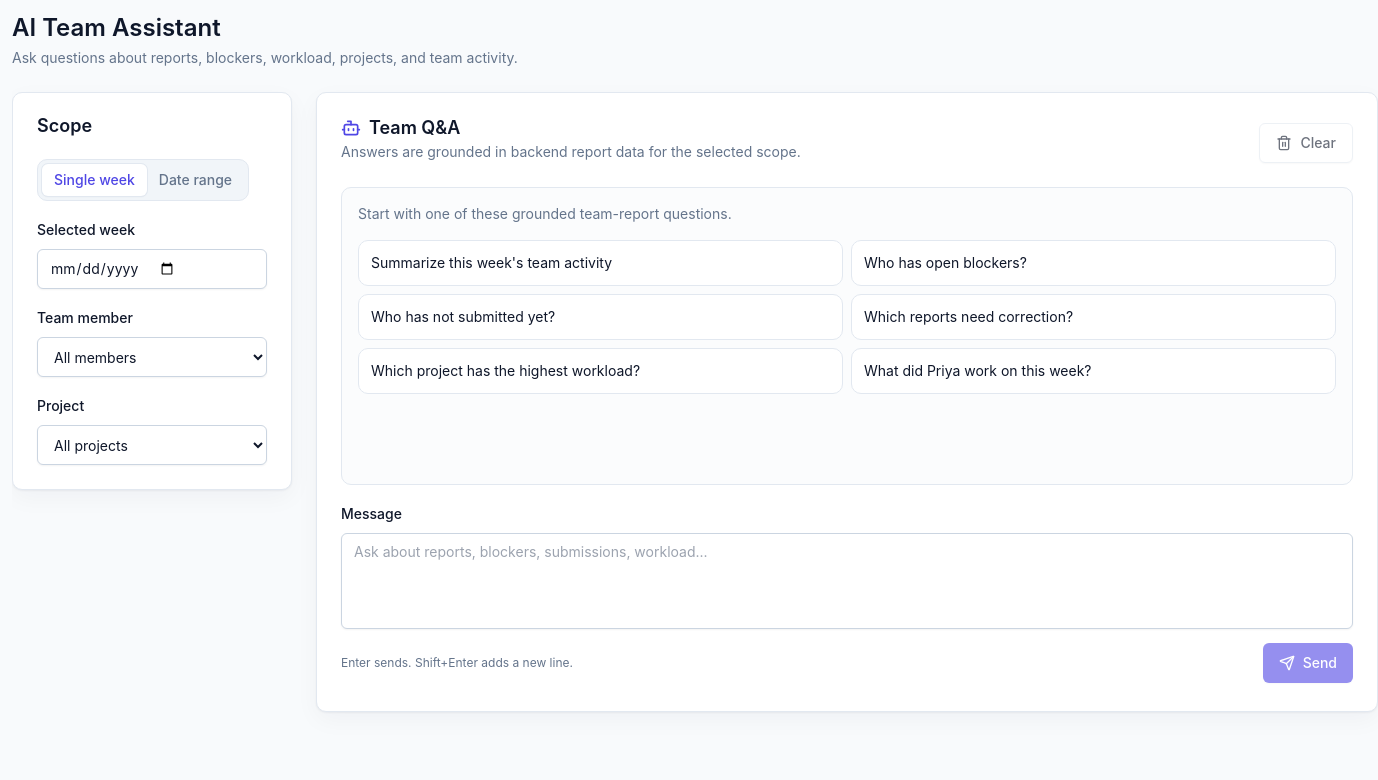
it: ManagerAiAssistantPage › sends a starter prompt and renders the assistant response
Step 1. Click the button "Who has open blockers?" → (945, 262), box [851,240,1336,286]
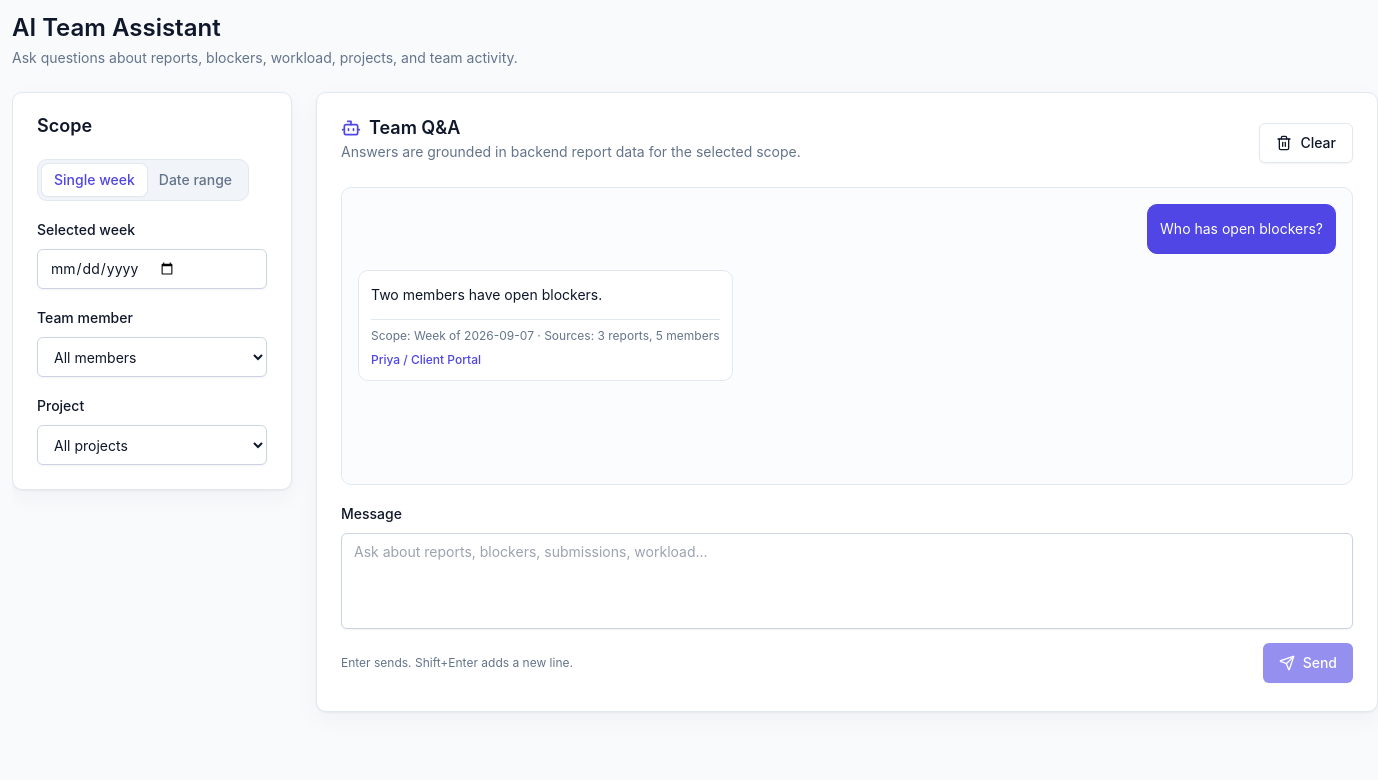
Now the text "Two members have open blockers." is shown, box [371,286,602,303]
